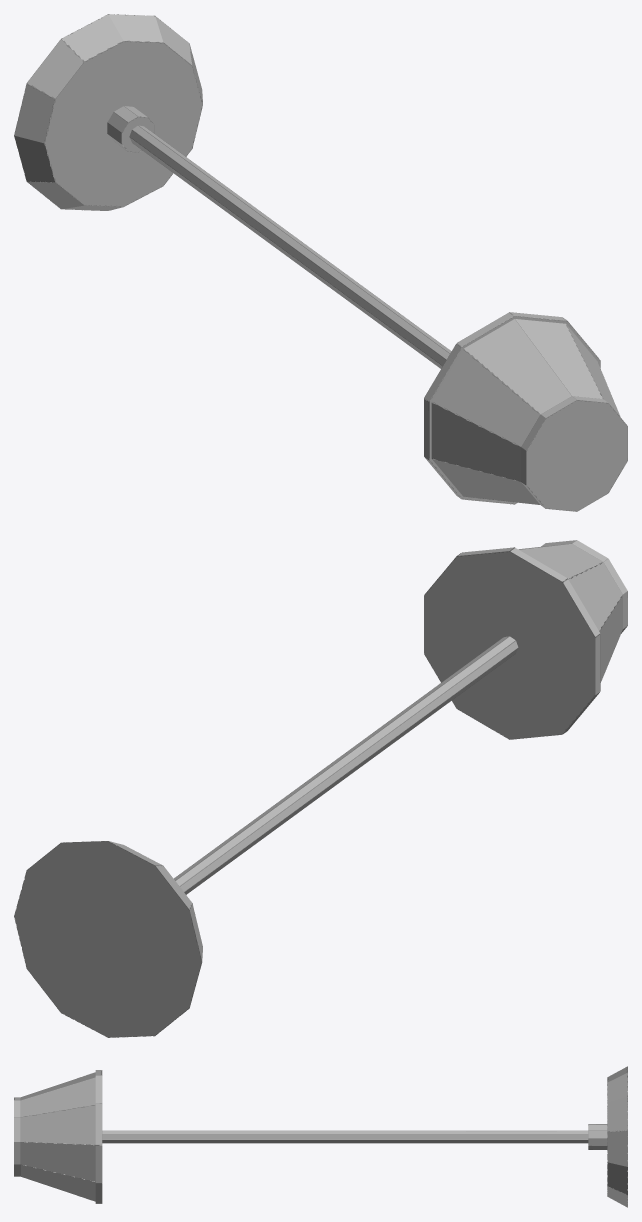
The model's file is floor_lamp_white.obj.
The picture shows the model from 3 angles, top to bottom: view 1: azimuth 30°, elevation 25°; view 2: azimuth 150°, elevation 25°; view 3: azimuth 270°, elevation 25°; orthographic projection. The views are drawn at different scales.
Visible parts, largest first — view 1: floor_lamp_white; view 2: floor_lamp_white; view 3: floor_lamp_white.
Part boxes in pixels (x1,y1,x2,y2): floor_lamp_white: (14, 14, 627, 511); floor_lamp_white: (14, 540, 627, 1037); floor_lamp_white: (14, 1066, 627, 1207).
Bounding box in the file's own units: 0.38 × 0.38 × 1.64.
Materials: 1 (1 with a texture image).
